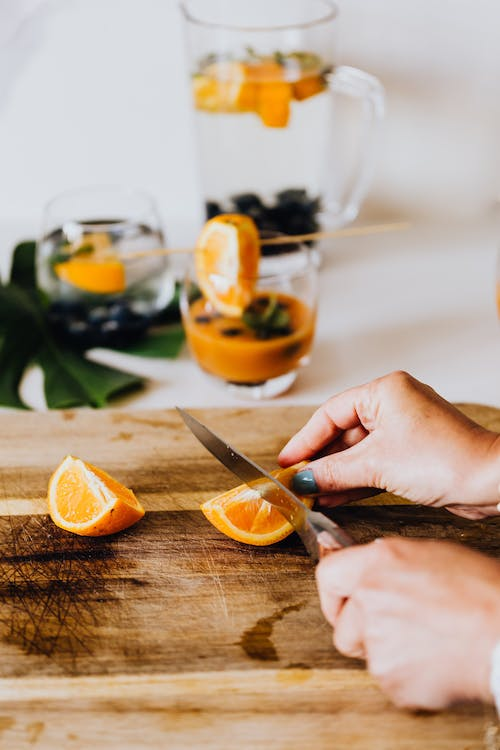knife: (173, 405, 357, 563)
